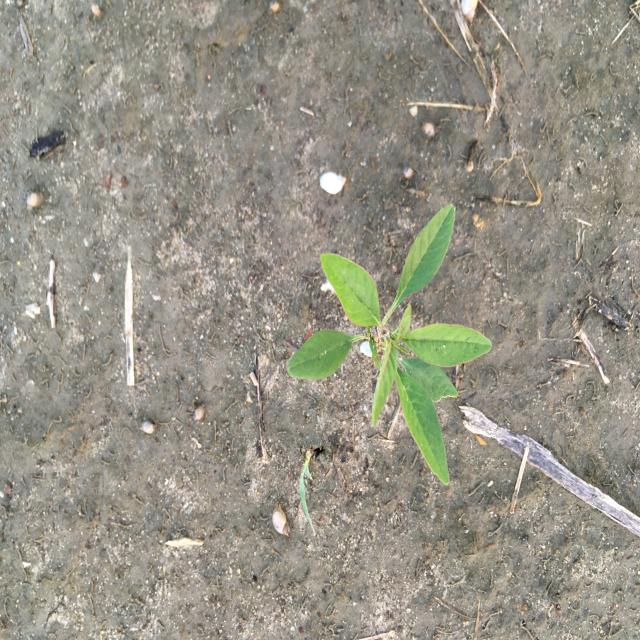Waterhemp: (284, 203, 493, 488)
